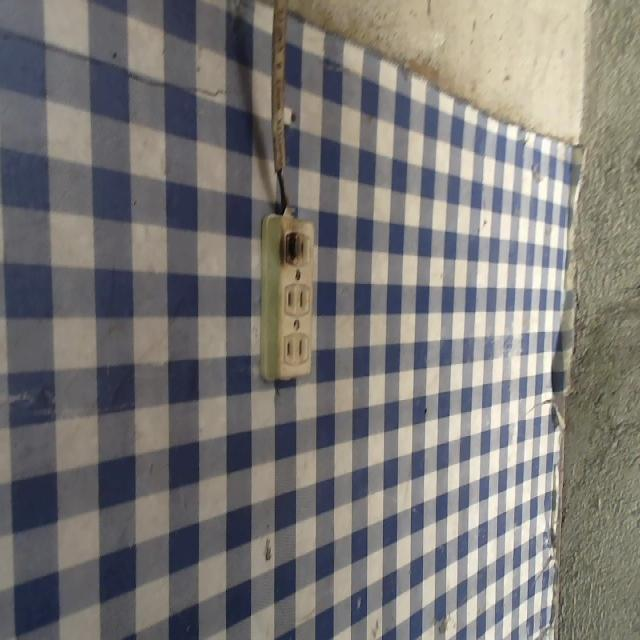-: (278, 227, 302, 270)
